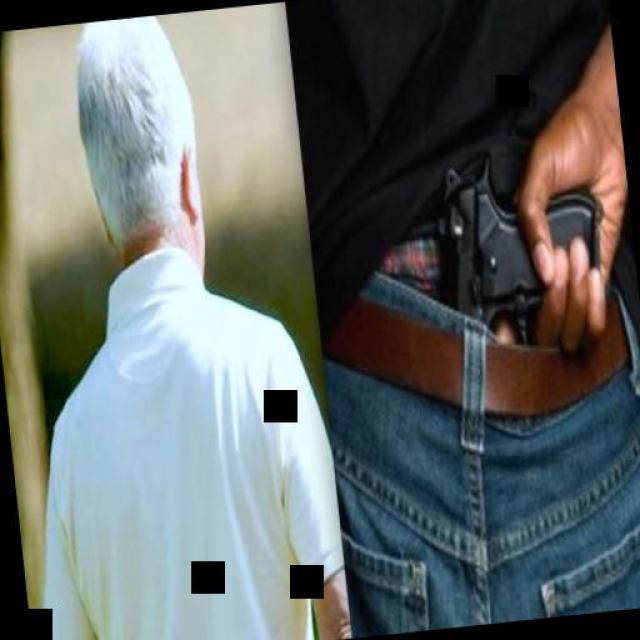gun: (432, 113, 622, 385)
